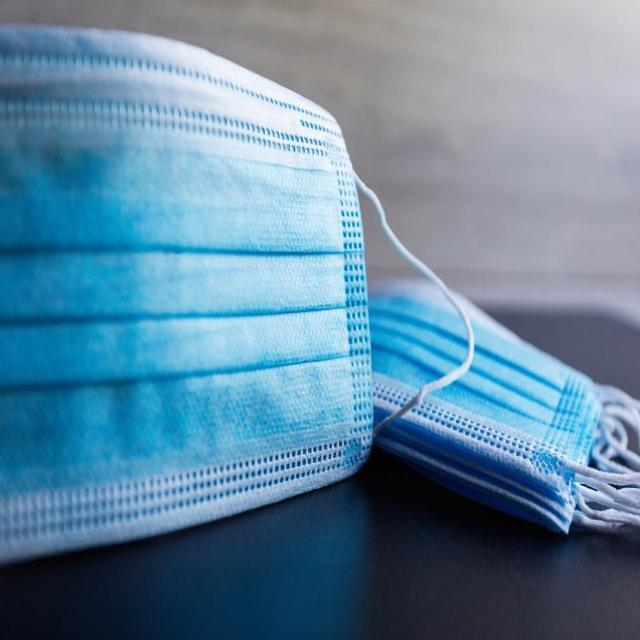Mask: (0, 21, 474, 563), (365, 274, 640, 538)
